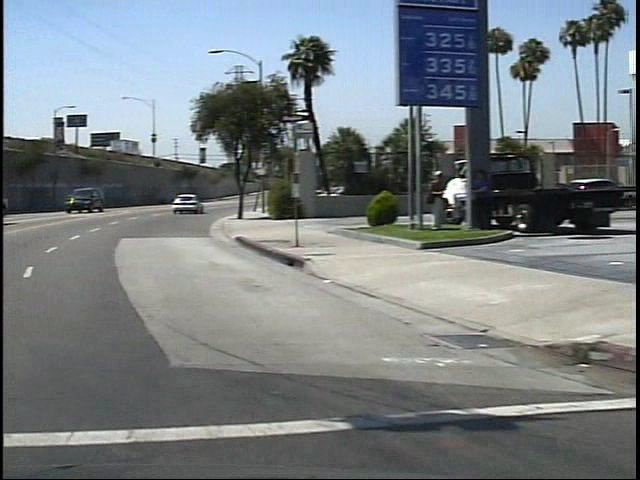person: (415, 164, 442, 232)
